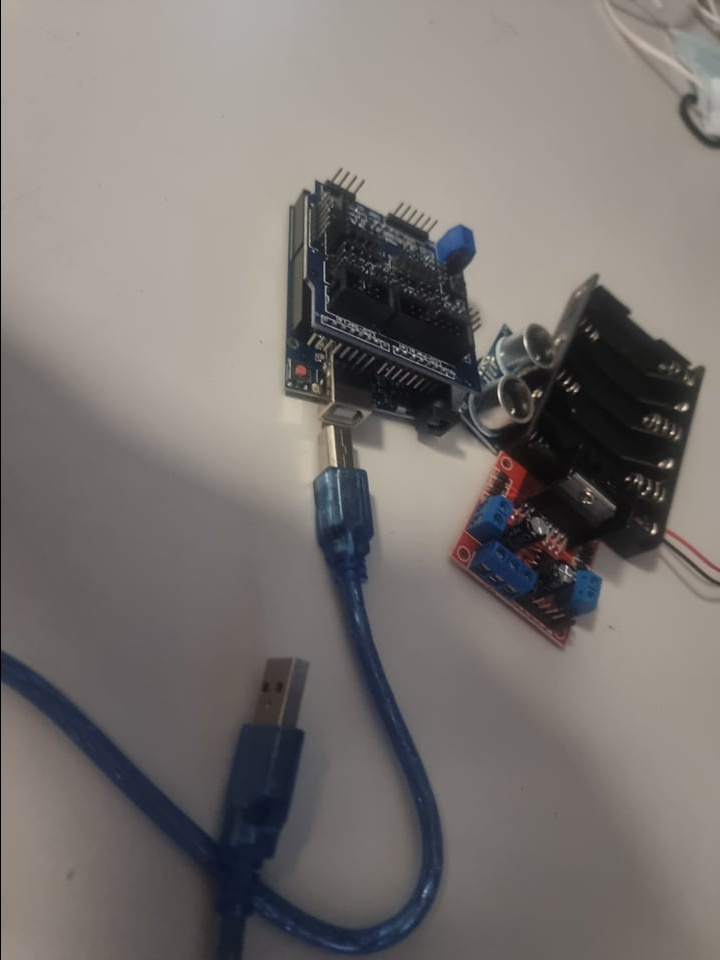5V EXPANSION: (316, 176, 483, 364)
BATTERY BOX: (522, 273, 709, 551)
MOTOR: (449, 451, 624, 648)
SENSOR: (470, 317, 555, 447)
UNO R3: (269, 349, 462, 441)
